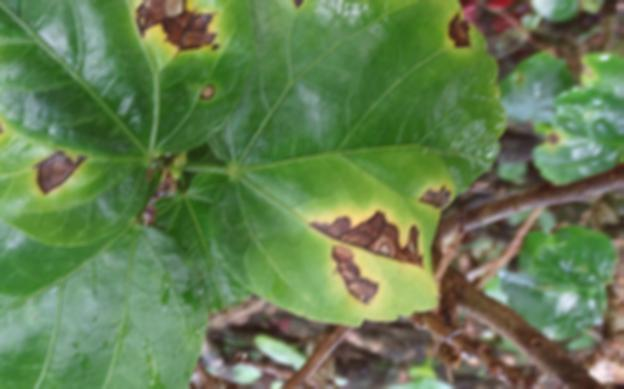Tomato Septoria leaf spot: (213, 0, 518, 330), (0, 0, 255, 230)
